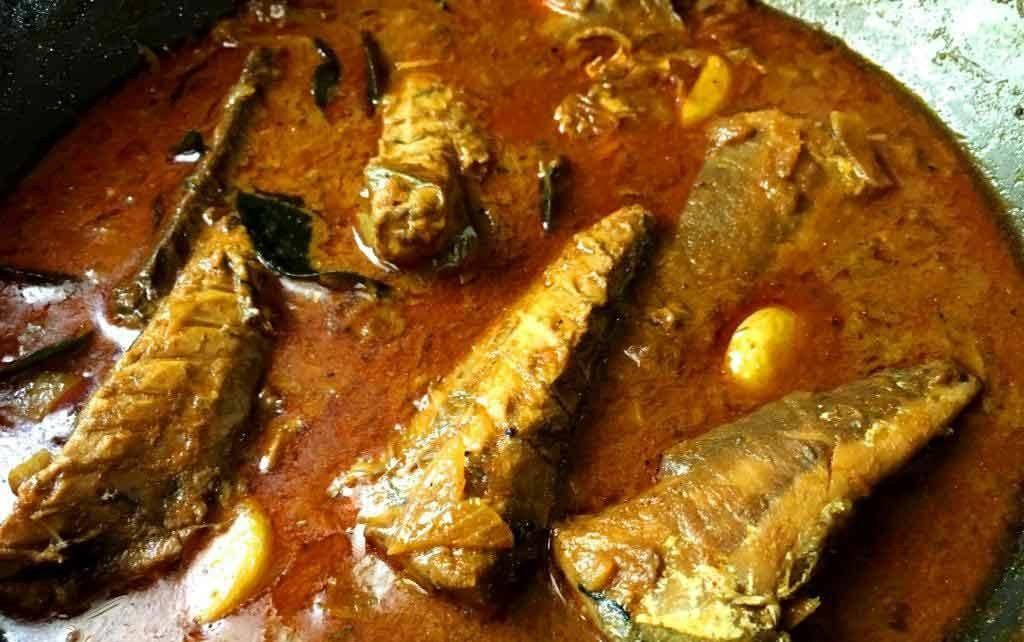FishCurry: (5, 5, 1024, 642)
